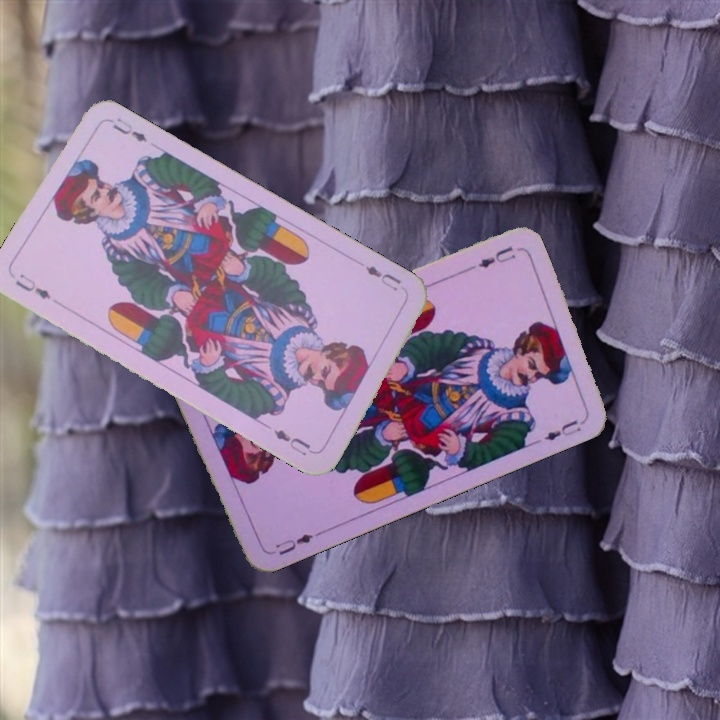EU: (271, 528, 323, 558), (360, 261, 404, 294), (11, 270, 54, 302), (474, 241, 519, 271)
